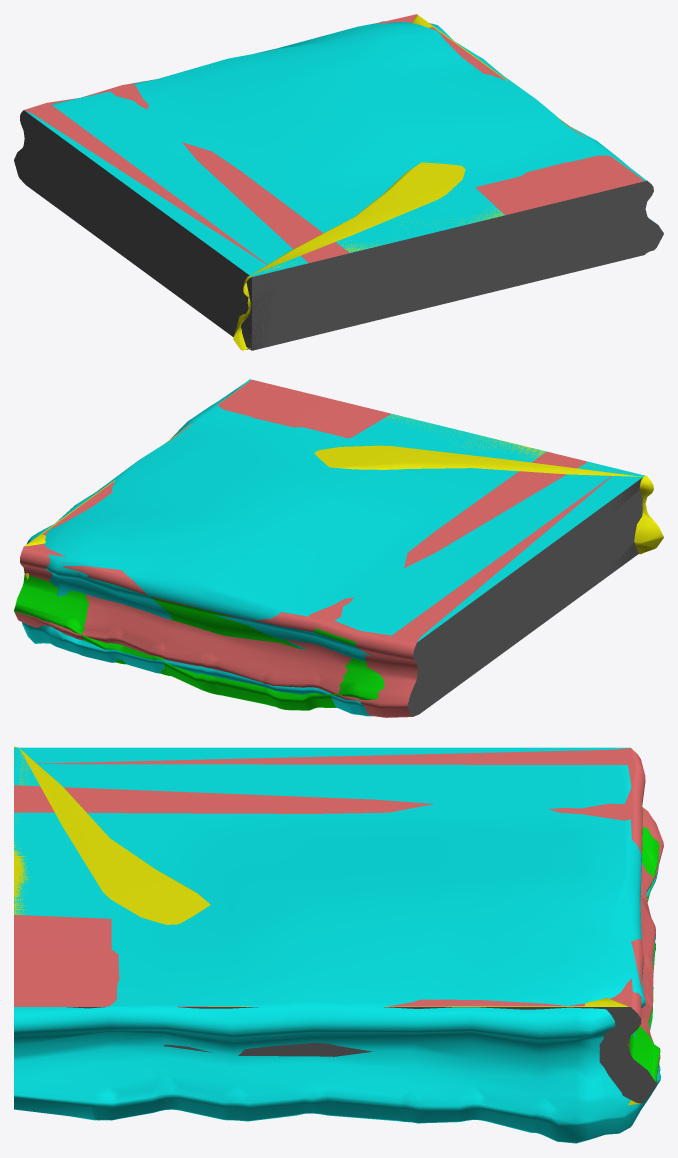
File: tilesEdge.fbx
3 views of the same model, one above another, from view 1: azimuth 30°, elevation 25°; view 2: azimuth 150°, elevation 25°; view 3: azimuth 270°, elevation 25° (orthographic). The views are drawn at different scales.
Visible parts, largest first — view 1: tile_edge3, tile_edge1, tile_edge2, tile_edge4; view 2: tile_edge3, tile_edge1, tile_edge2, tile_edge4; view 3: tile_edge3, tile_edge1, tile_edge4, tile_edge2.
Boxes of the visible parts, x1,y1,x2,y2 form: tile_edge3: (20, 21, 663, 350); tile_edge1: (14, 14, 645, 350); tile_edge2: (20, 111, 645, 349); tile_edge4: (233, 14, 620, 350); tile_edge3: (22, 379, 644, 716); tile_edge1: (14, 379, 642, 717); tile_edge2: (14, 481, 641, 710); tile_edge4: (15, 399, 663, 606); tile_edge3: (14, 747, 660, 1143); tile_edge1: (14, 748, 663, 1103); tile_edge4: (14, 746, 640, 1105); tile_edge2: (14, 760, 660, 1084).
Bounding box in the file's own units: 6.62 × 1.6 × 6.36.
